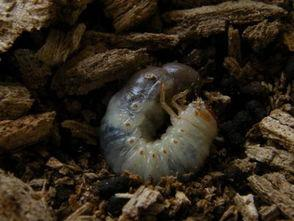grub: (81, 49, 226, 186)
